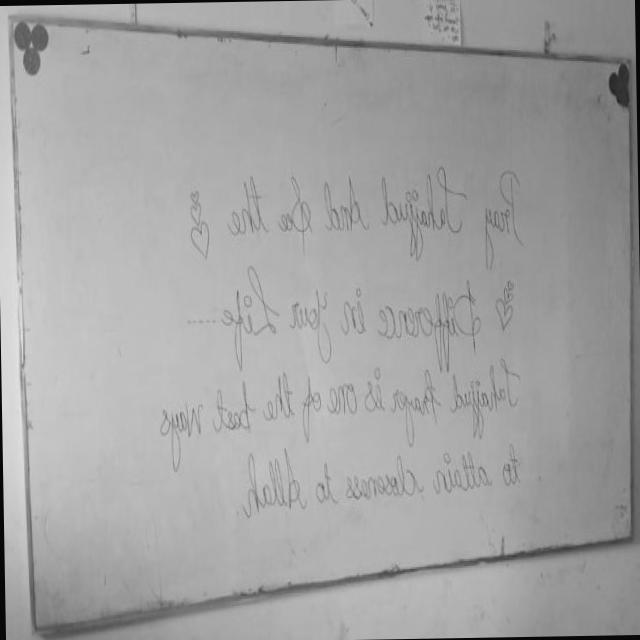White-board: (9, 19, 633, 640)
